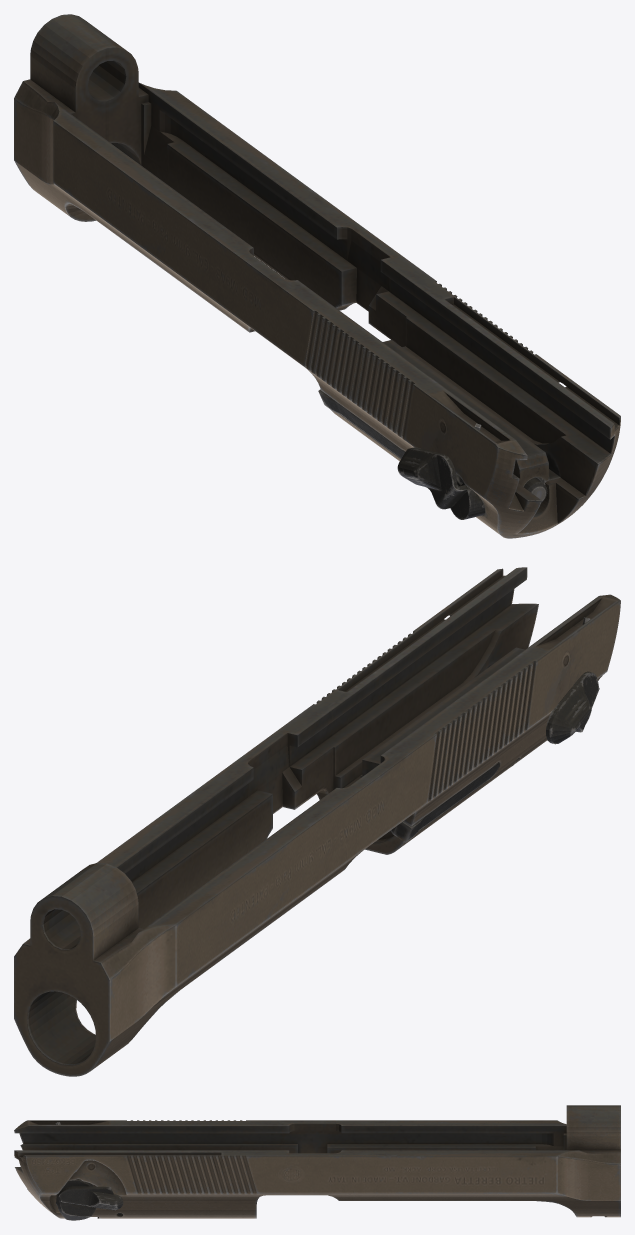
3 renders of one model, top to bottom at view 1: azimuth 30°, elevation 25°; view 2: azimuth 150°, elevation 25°; view 3: azimuth 270°, elevation 25°, orthographic. The views are drawn at different scales.
Parts seen in each view (by area): view 1: TW_5cadc55cae921500103bb3be_PZ_Import; view 2: TW_5cadc55cae921500103bb3be_PZ_Import; view 3: TW_5cadc55cae921500103bb3be_PZ_Import.
Boxes of the visible parts, box(x1,y1,x2,y2) form: TW_5cadc55cae921500103bb3be_PZ_Import: box(14, 14, 620, 538); TW_5cadc55cae921500103bb3be_PZ_Import: box(14, 567, 620, 1076); TW_5cadc55cae921500103bb3be_PZ_Import: box(14, 1105, 620, 1220).
Bounding box in the file's own units: 0.0203 × 0.11 × 0.0214.
Materials: 1 (1 with a texture image).
